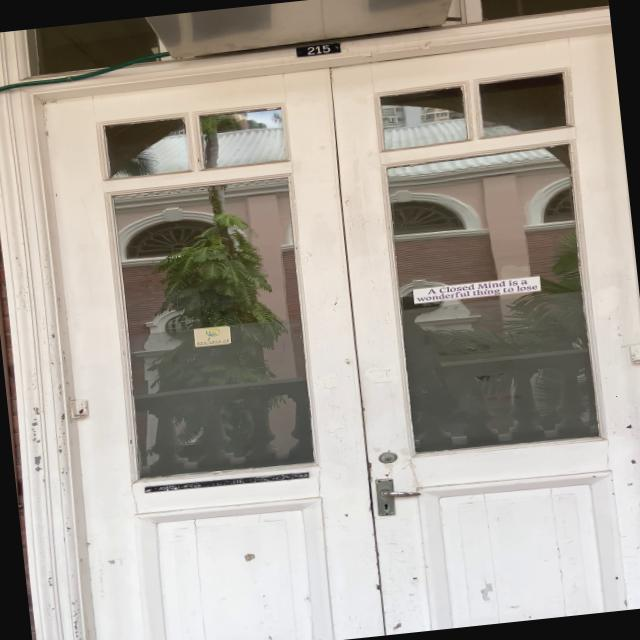room215: (292, 40, 343, 59)
